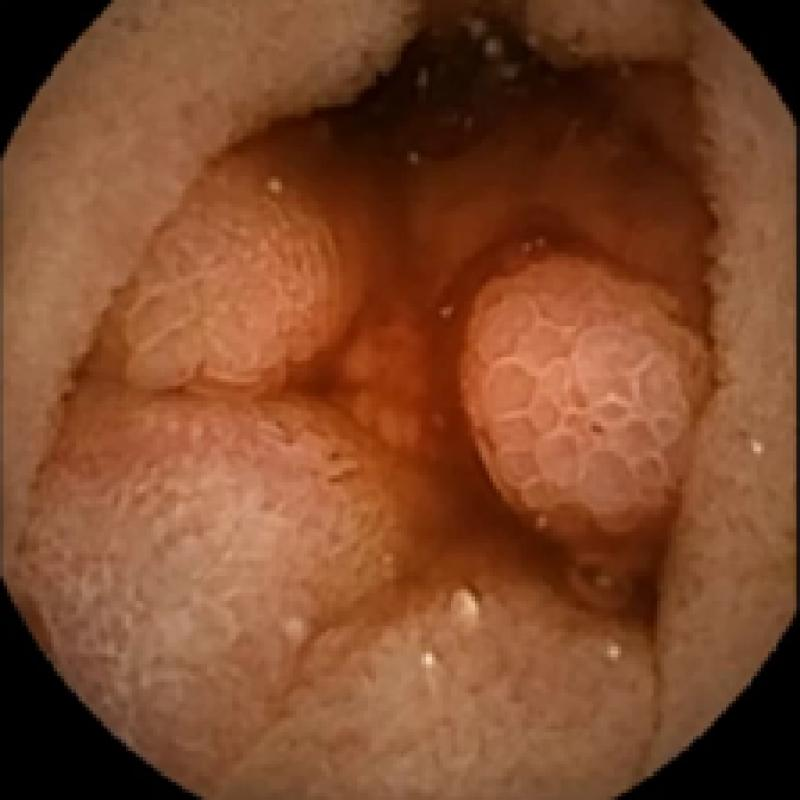bleeding: (232, 0, 732, 600)
